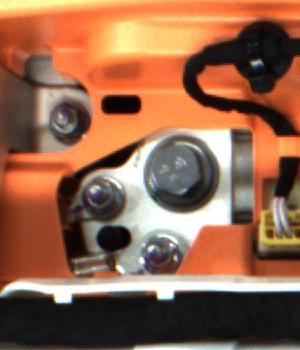nut_b: (140, 129, 227, 213)
screw_s: (45, 98, 89, 143), (137, 231, 179, 275), (83, 174, 121, 215)
